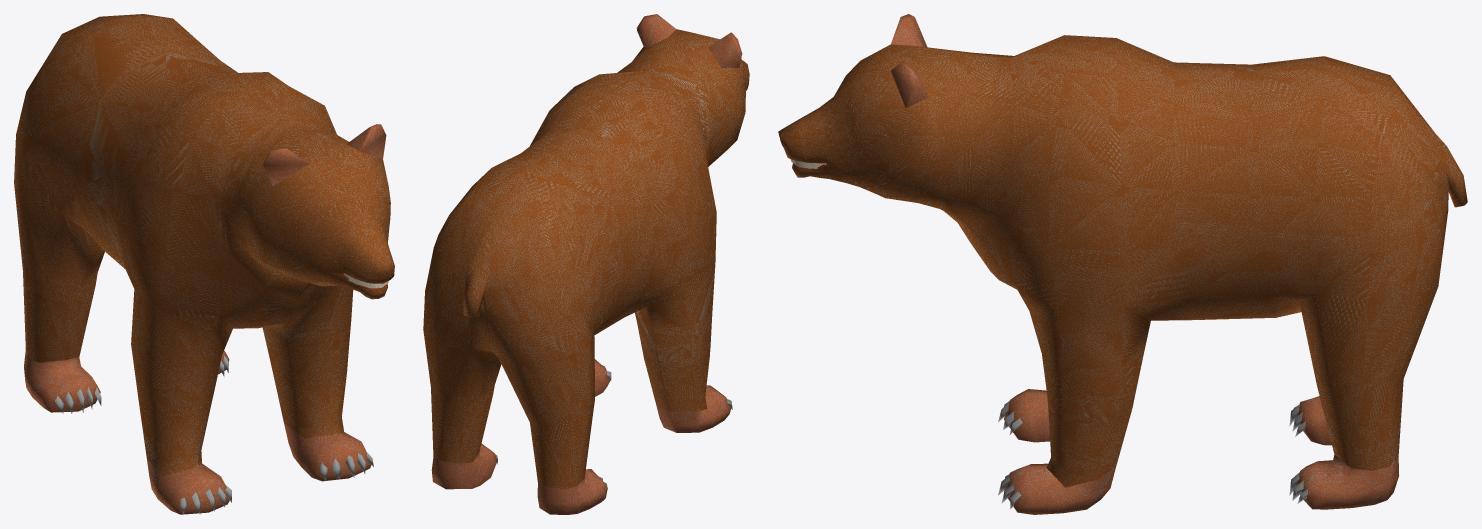
Rendered from bear.dae.
3 views of the same model, side by side, from view 1: azimuth 30°, elevation 25°; view 2: azimuth 150°, elevation 25°; view 3: azimuth 270°, elevation 25° (orthographic). The views are drawn at different scales.
Visible parts, largest first — view 1: bear_____1 (×6); view 2: bear_____1 (×7); view 3: bear_____1 (×7).
Part boxes in pixels (box(x1,y1,x2,y2)): bear_____1 (×6): box(14, 14, 394, 514); bear_____1 (×7): box(423, 14, 749, 514); bear_____1 (×7): box(778, 14, 1467, 514).
Bounding box in the file's own units: 23.25 × 65 × 44.47.
